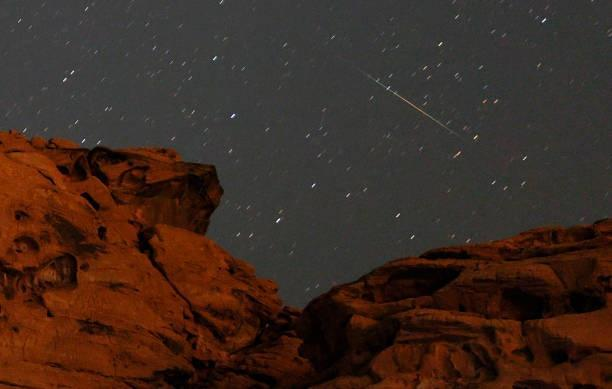meteorite: (335, 54, 476, 141)
